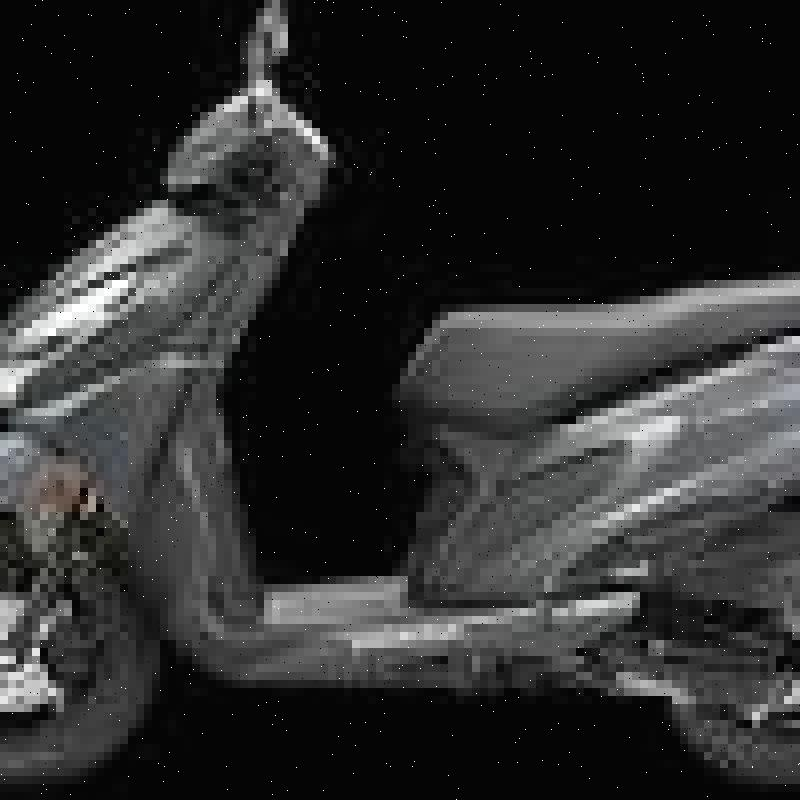bike: (4, 0, 800, 783)
